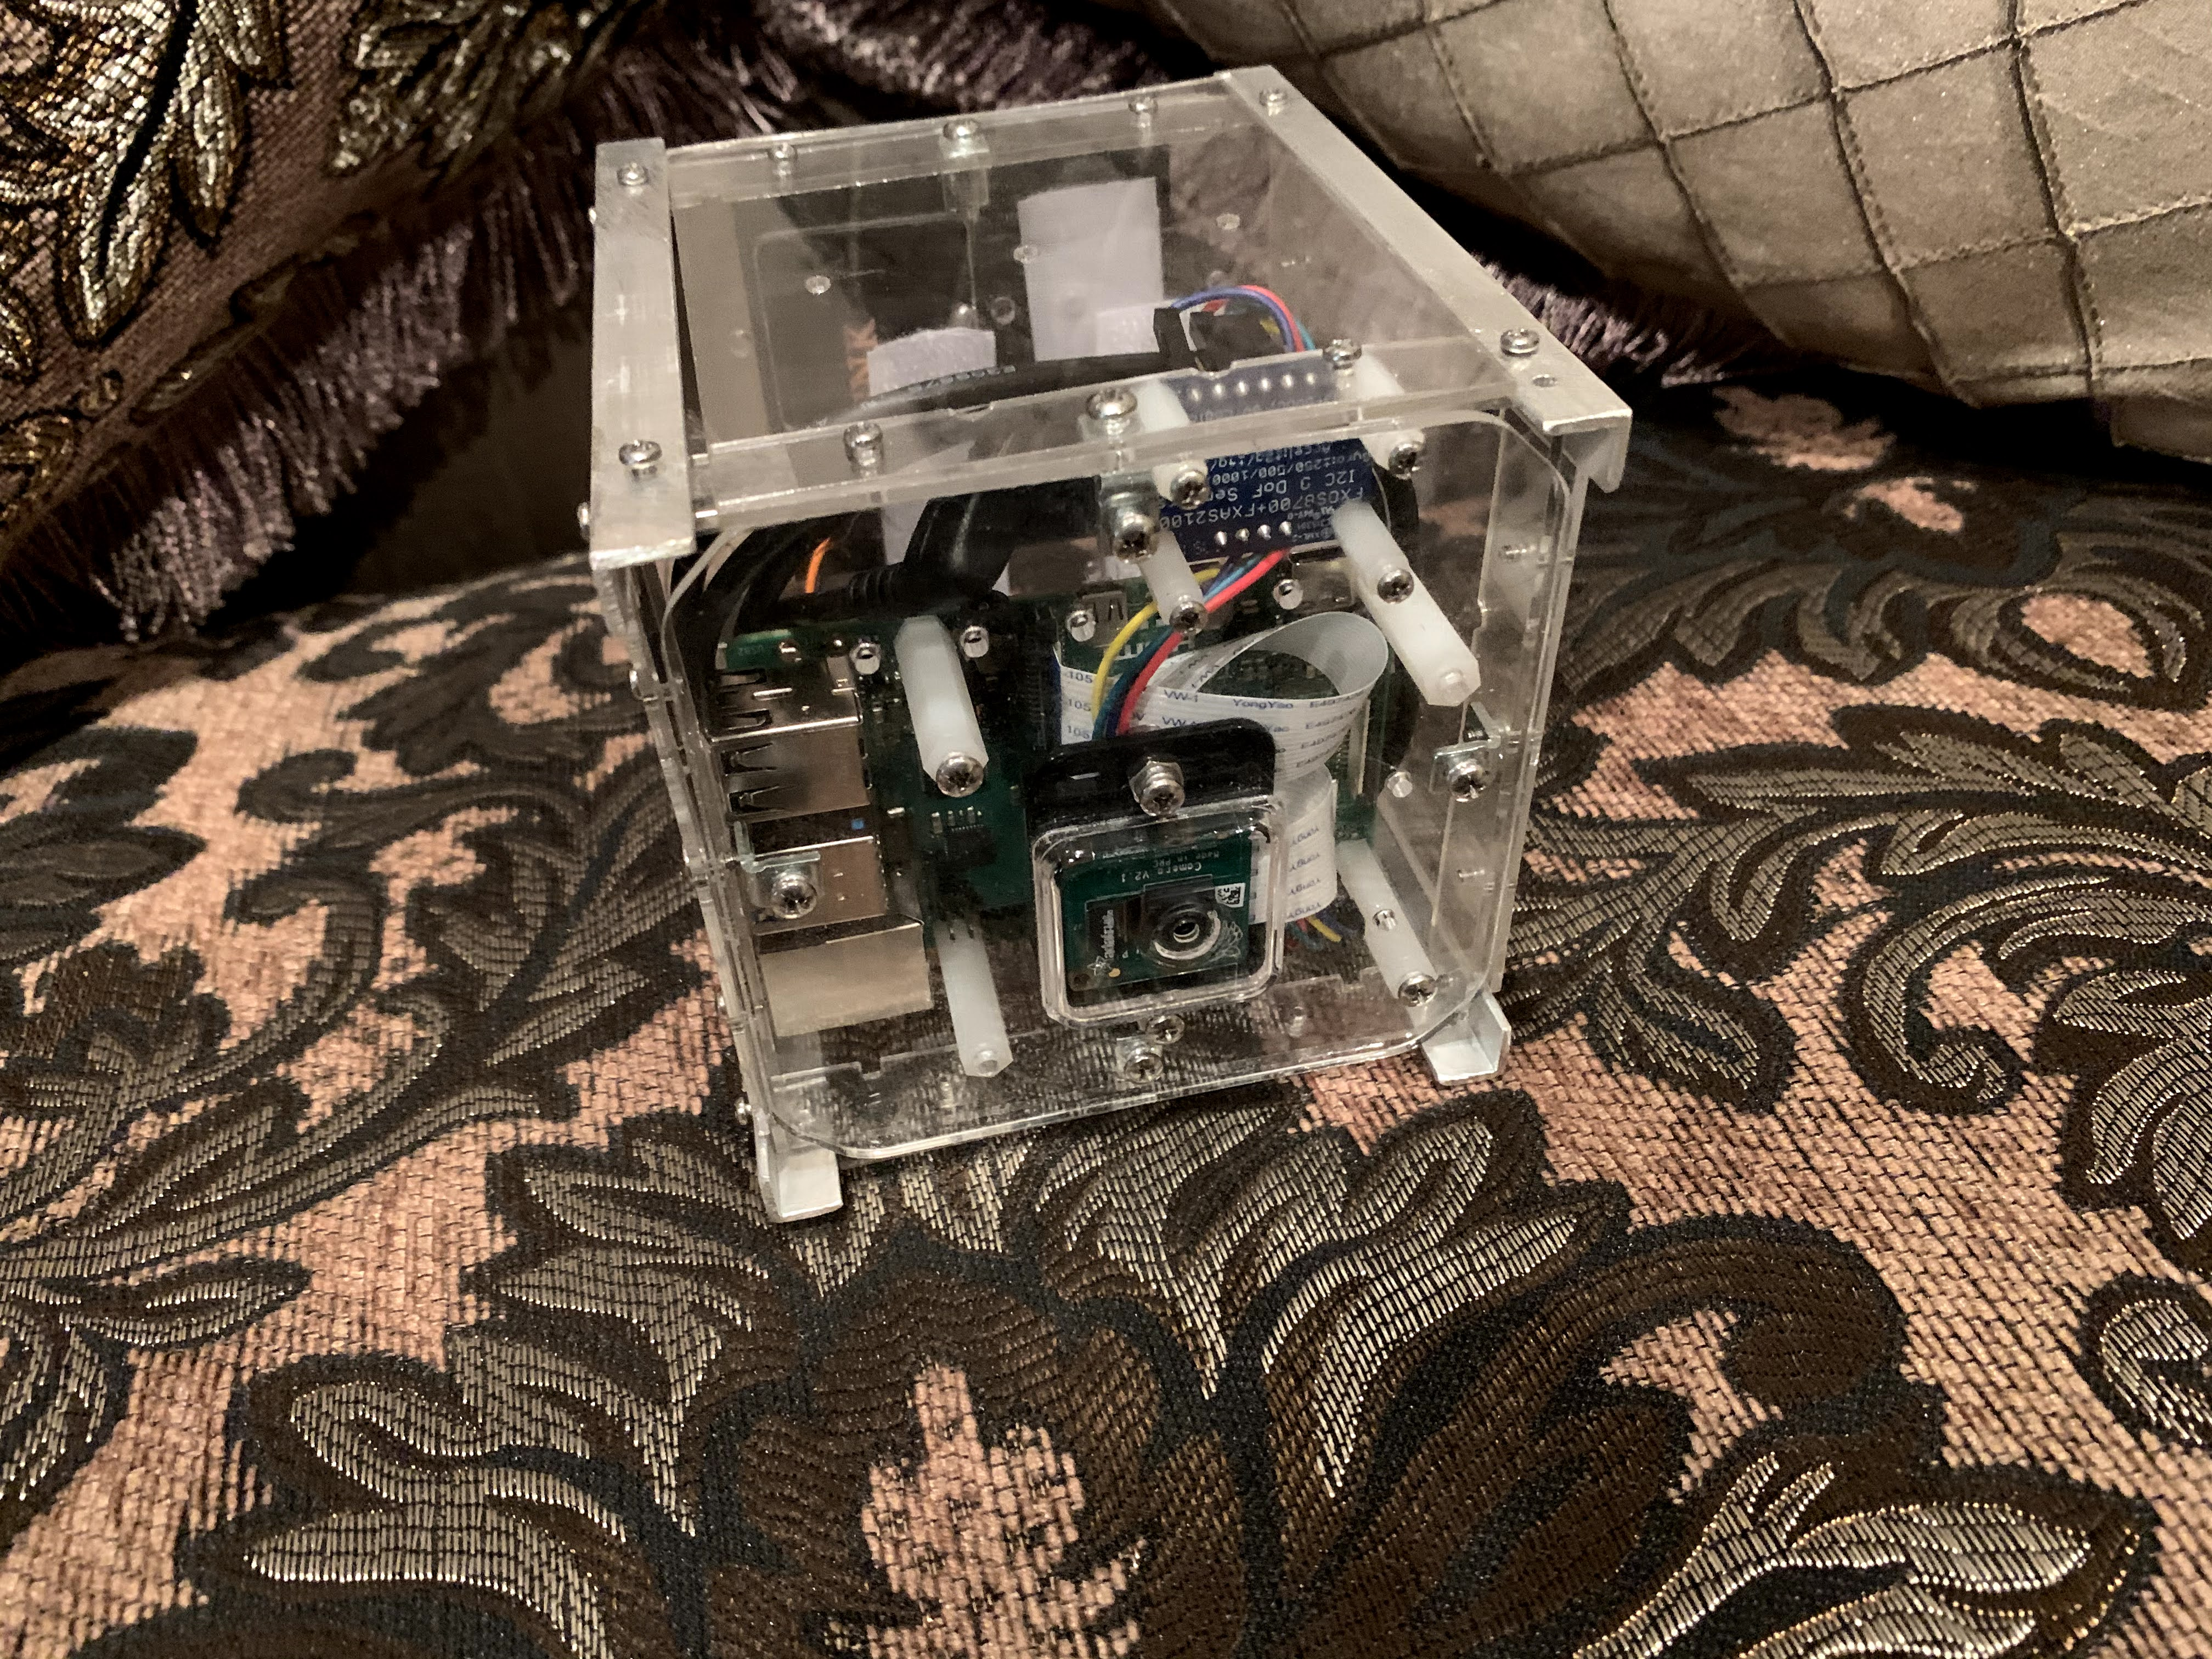Space-debris-cubesat: (554, 51, 1677, 1232)
